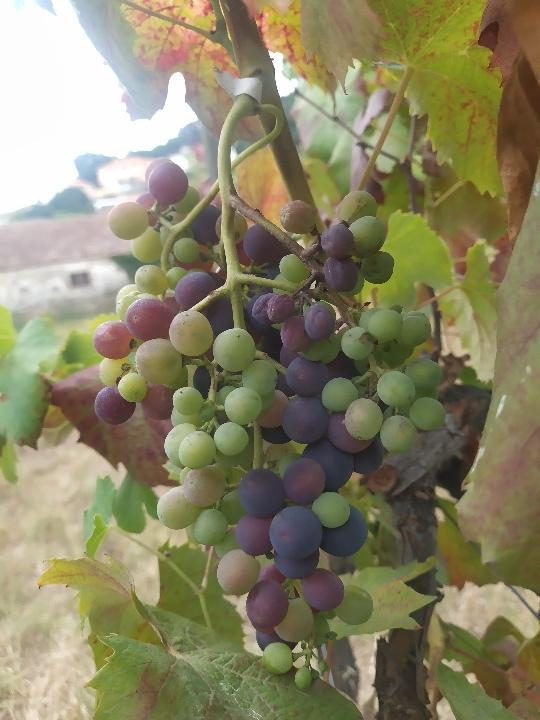grape: (90, 153, 452, 691)
